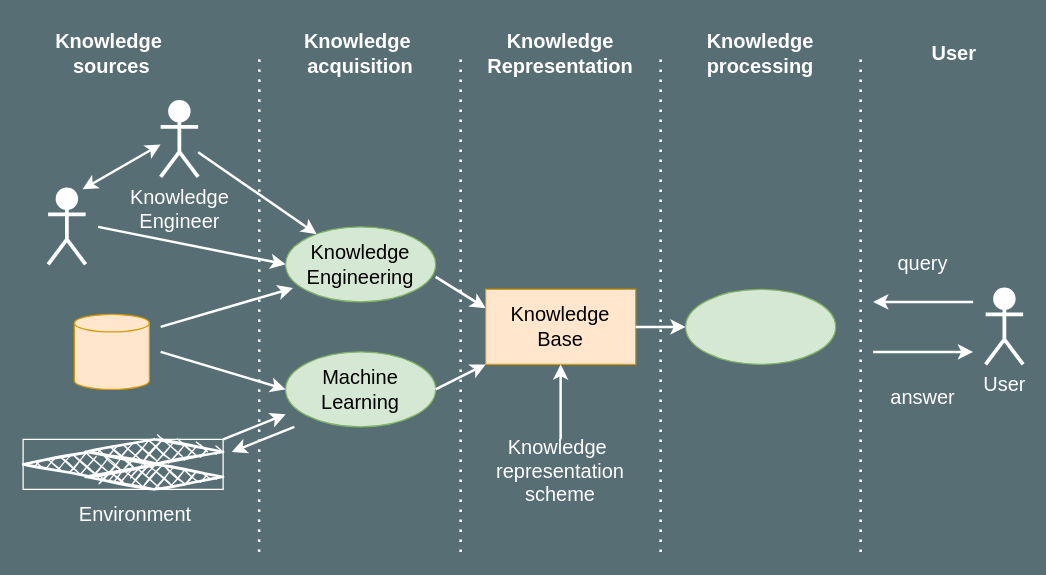
Some shapes in this 1046 by 575 pixel diagram are drawn without their labels. The shapes that lost their labels are listed below. From the top down, each one's centre as x and y in pixels, then its label:
the point at 66,226: Expert
the point at 760,326: Inference
the point at 111,351: Data- base
